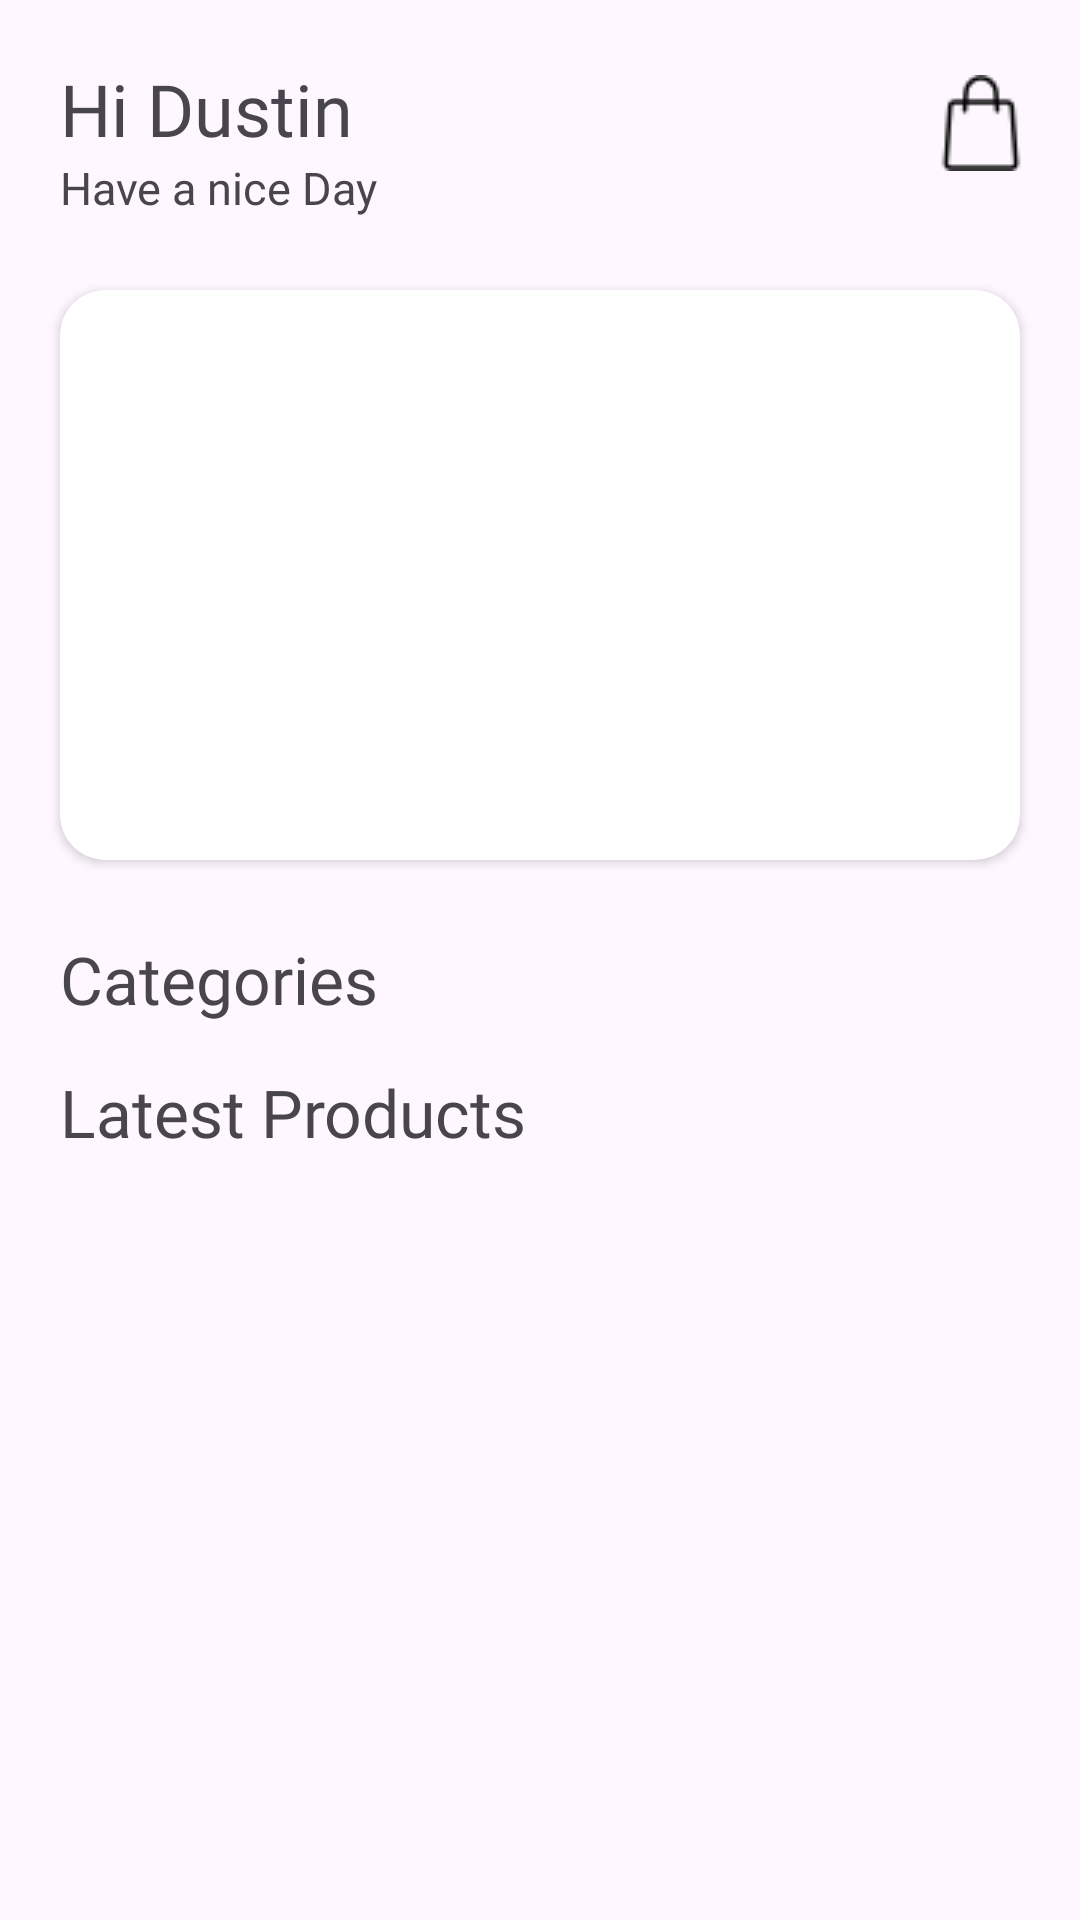

Icons on this 1080 x 1920 Android screen, each with the point to tap as [x,y]:
Cart: [981,123]
